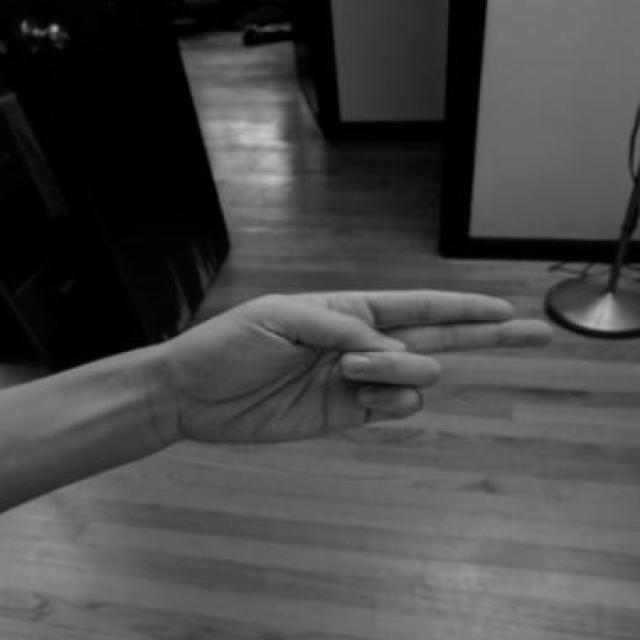H: (157, 277, 567, 459)
